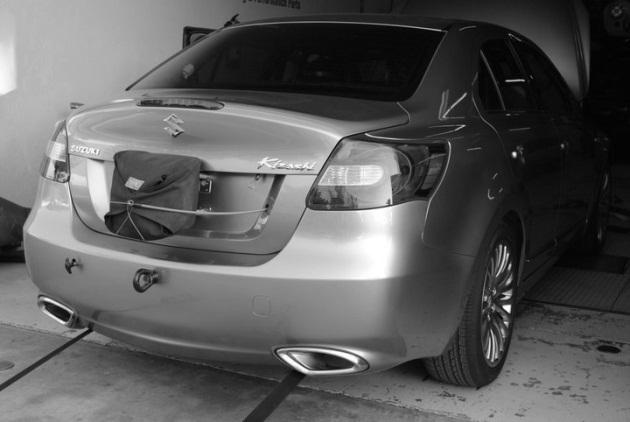car: (23, 17, 604, 391)
